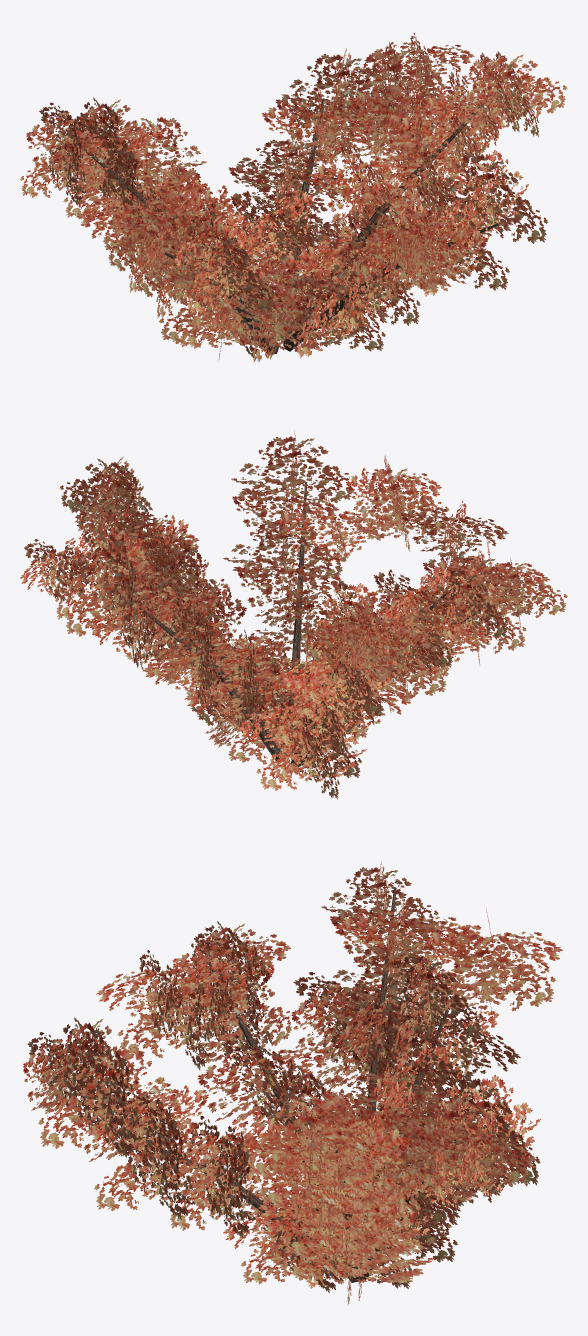
The model's file is bush_3d_02_copper_lod1.glb.
The picture shows the model from 3 angles, top to bottom: view 1: azimuth 30°, elevation 25°; view 2: azimuth 150°, elevation 25°; view 3: azimuth 270°, elevation 25°; orthographic projection. The views are drawn at different scales.
Visible parts, largest first — view 1: foliage_cards, wood_geometry; view 2: foliage_cards, wood_geometry; view 3: foliage_cards, wood_geometry.
Part boxes in pixels (x1,y1,x2,y2): foliage_cards: (20,32,567,362); wood_geometry: (76,95,498,354); foliage_cards: (20,430,567,799); wood_geometry: (108,482,511,766); foliage_cards: (23,861,562,1304); wood_geometry: (86,887,489,1282).
Bounding box in the file's own units: 3.06 × 1.47 × 2.46.
2 materials, 2 textured.
